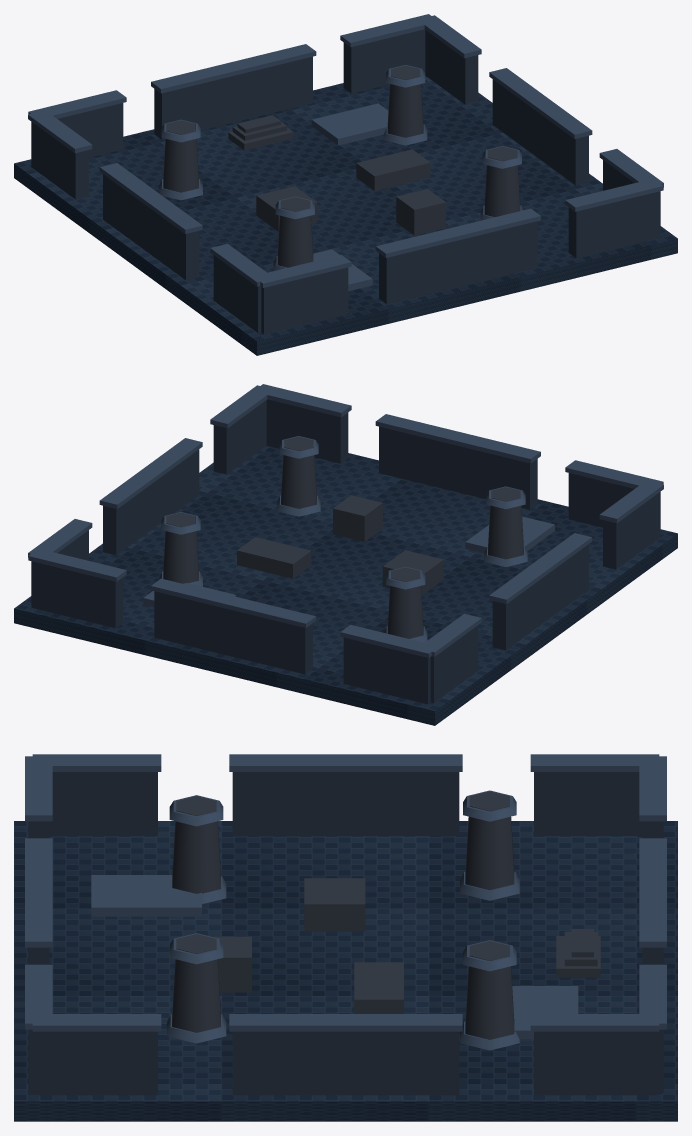
Rendered from tilted-dungeon-lab-room-v1.glb.
The picture shows the model from 3 angles, top to bottom: view 1: azimuth 30°, elevation 25°; view 2: azimuth 150°, elevation 25°; view 3: azimuth 270°, elevation 25°; orthographic projection. The views are drawn at different scales.
Visible parts, largest first — view 1: Tilted Dungeon Lab - Neutral Room; view 2: Tilted Dungeon Lab - Neutral Room; view 3: Tilted Dungeon Lab - Neutral Room.
Part boxes in pixels (x1,y1,x2,y2): Tilted Dungeon Lab - Neutral Room: (14,14,677,355); Tilted Dungeon Lab - Neutral Room: (14,384,677,725); Tilted Dungeon Lab - Neutral Room: (14,754,677,1121).
Bounding box in the file's own units: 12 × 2.1 × 12.
Materials: 4 (1 with a texture image).
